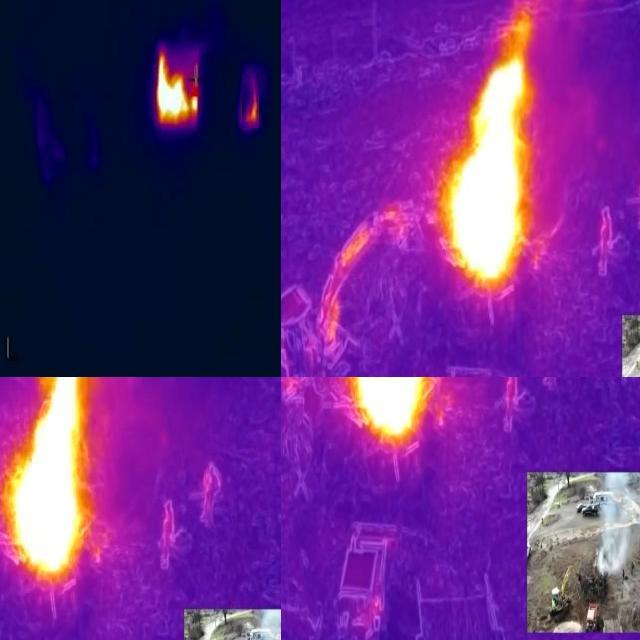fire: (446, 33, 532, 290), (2, 378, 96, 581), (341, 378, 437, 446), (154, 46, 200, 128), (242, 74, 259, 128)
